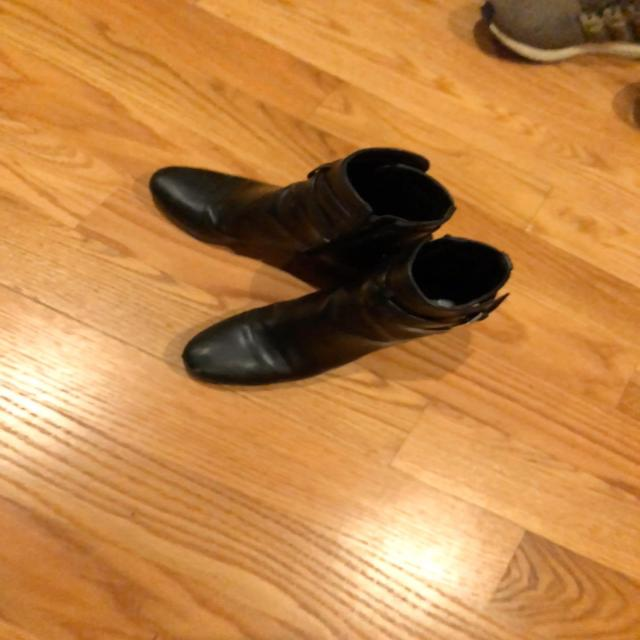shoe: (180, 238, 515, 390), (148, 149, 454, 258)
